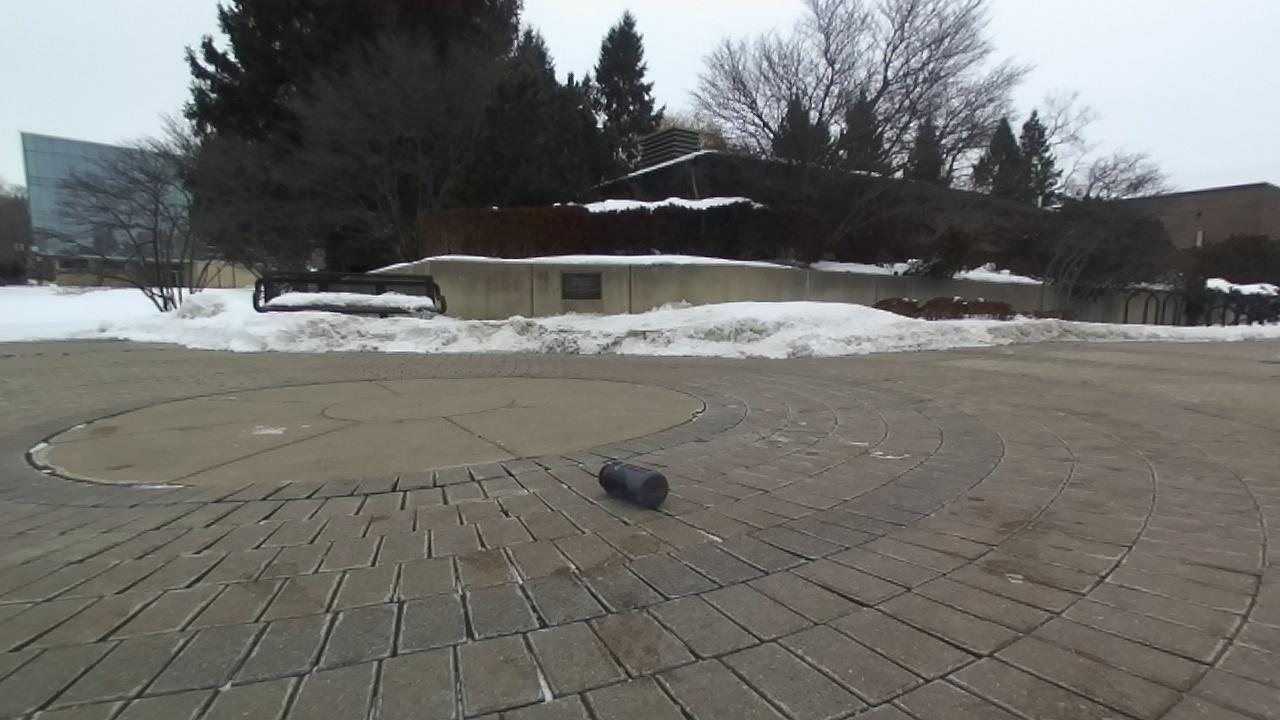bottle: (599, 461, 666, 508)
